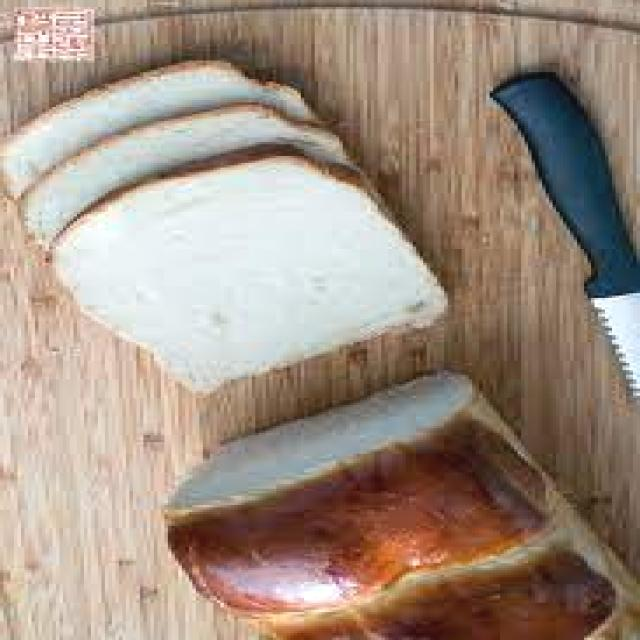roti tawar: (49, 151, 451, 391)
